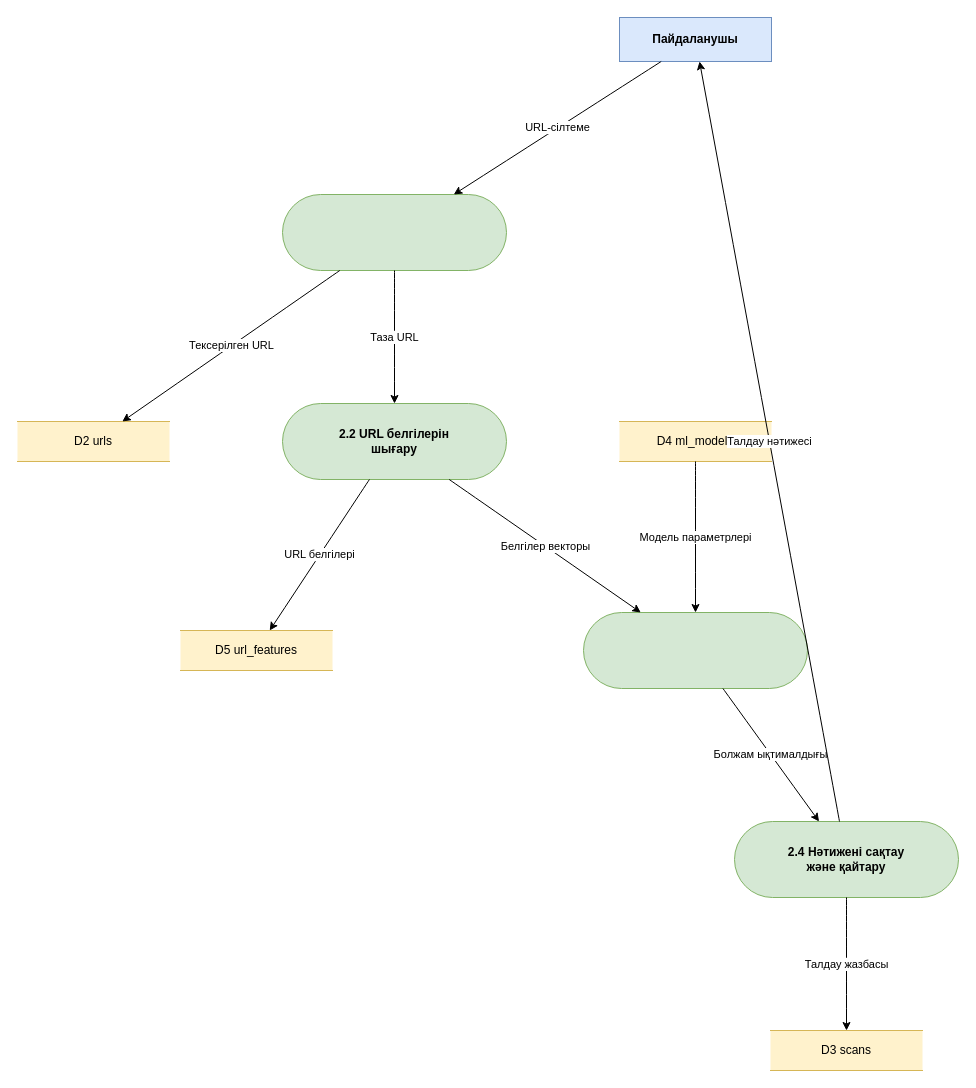
Image size: 976x1088. Some labels were removed from this diagram. The box of each missing label's shape, as (x1, y1, x2, y2) in pixels:
2.1 URL форматын тексеру: (282, 194, 506, 270)
2.3 Фишинг ықтималдығын болжау: (582, 612, 808, 688)
